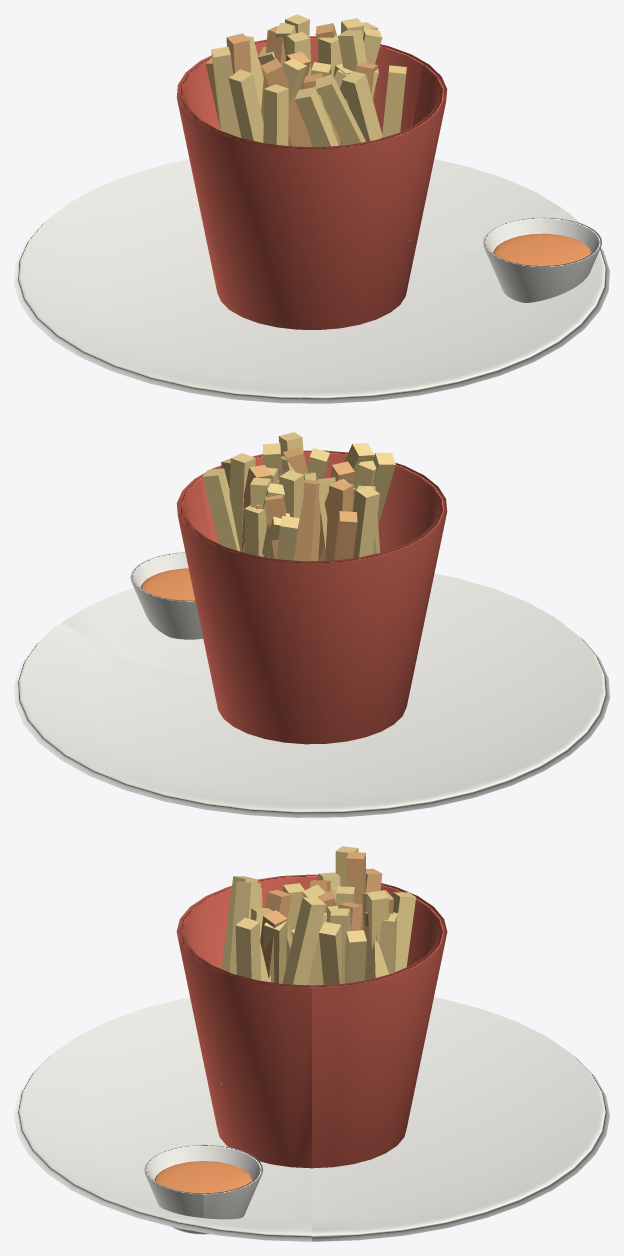
Rendered from peri-peri-fries.glb.
The picture shows the model from 3 angles, top to bottom: view 1: azimuth 30°, elevation 25°; view 2: azimuth 150°, elevation 25°; view 3: azimuth 270°, elevation 25°; orthographic projection.
Parts seen in each view (by area): view 1: peri-peri-fries; view 2: peri-peri-fries; view 3: peri-peri-fries.
Part boxes in pixels (box(x1,y1,x2,y2)): peri-peri-fries: box(14, 14, 609, 403); peri-peri-fries: box(14, 432, 609, 817); peri-peri-fries: box(14, 846, 609, 1241).
Bounding box in the file's own units: 0.22 × 0.1072 × 0.22.
